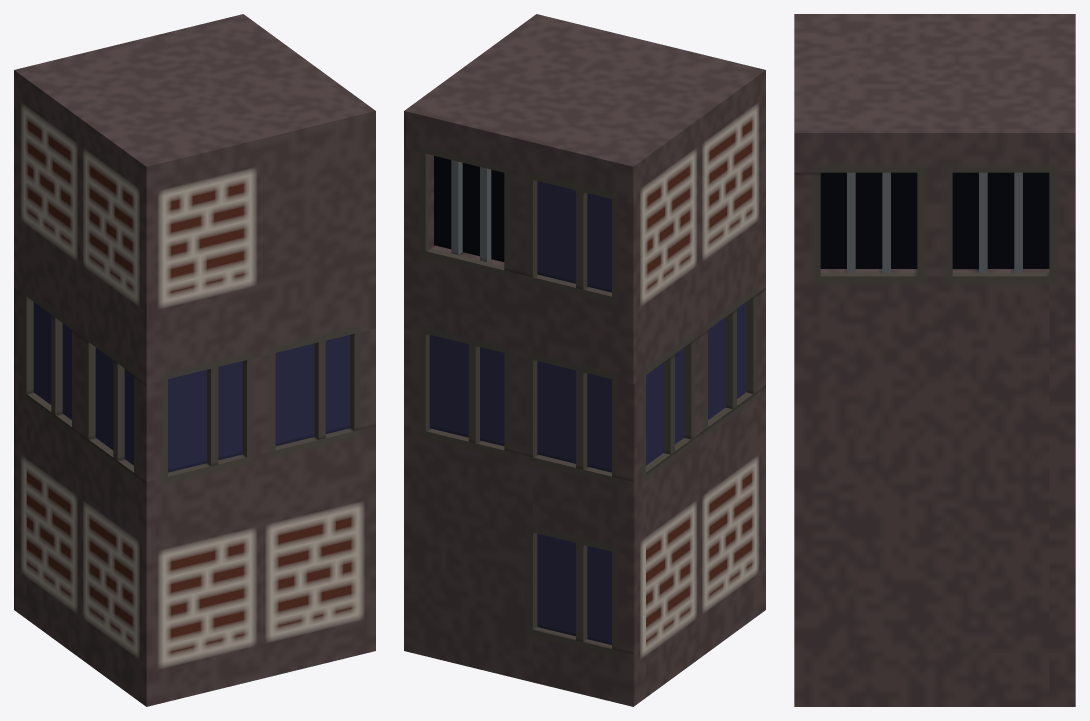
3 renders of one model, left to right at view 1: azimuth 30°, elevation 25°; view 2: azimuth 150°, elevation 25°; view 3: azimuth 270°, elevation 25°, orthographic. The views are drawn at different scales.
Visible parts, largest first — view 1: Content; view 2: Content; view 3: Content.
Part boxes in pixels (box(x1,y1,x2,y2)): Content: box(14, 14, 375, 706); Content: box(404, 14, 765, 706); Content: box(794, 14, 1075, 706).
Size of the model in its own units: 32 by 72 by 32.
1 material, 1 textured.
